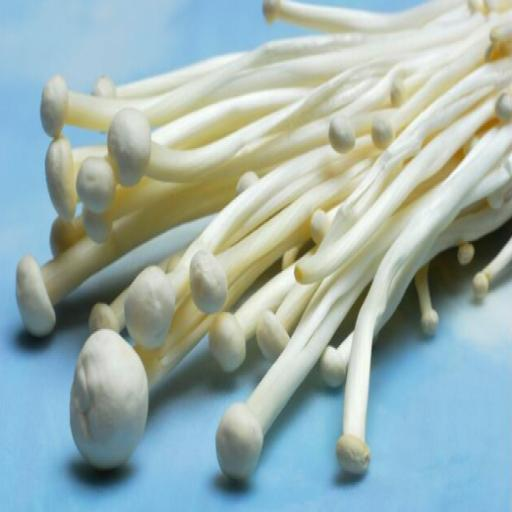Enoki Mushroom: (15, 30, 507, 500)
